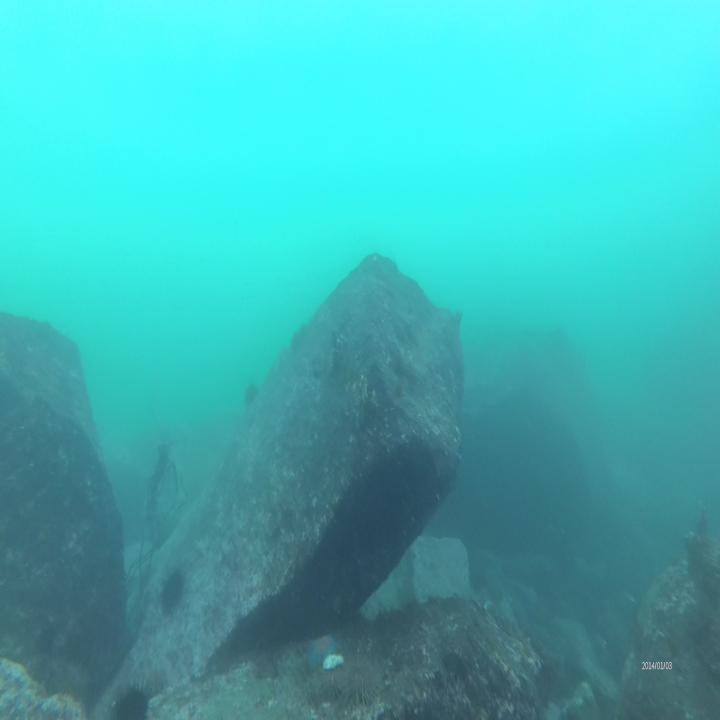echinus: (347, 655, 385, 706), (114, 679, 152, 720), (160, 564, 184, 616), (319, 666, 344, 705)
starfish: (308, 626, 340, 674)
